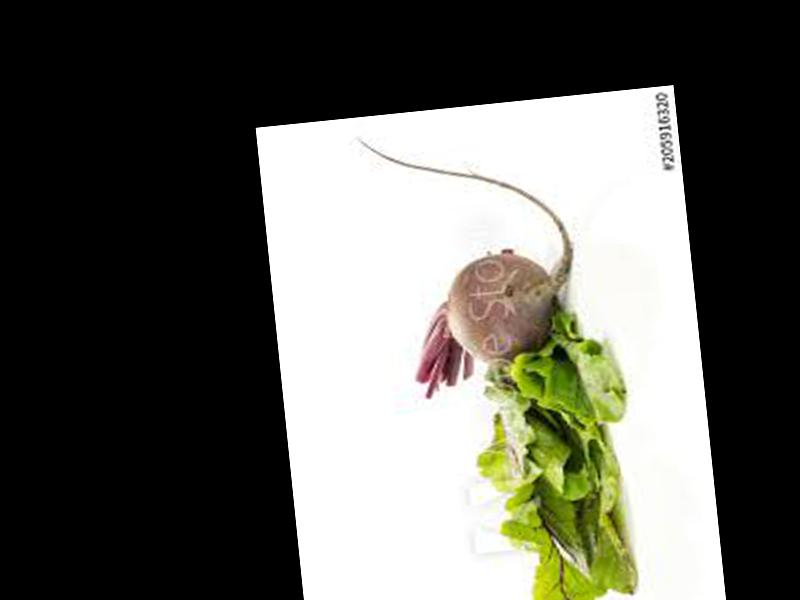Beet: (355, 114, 586, 407)
